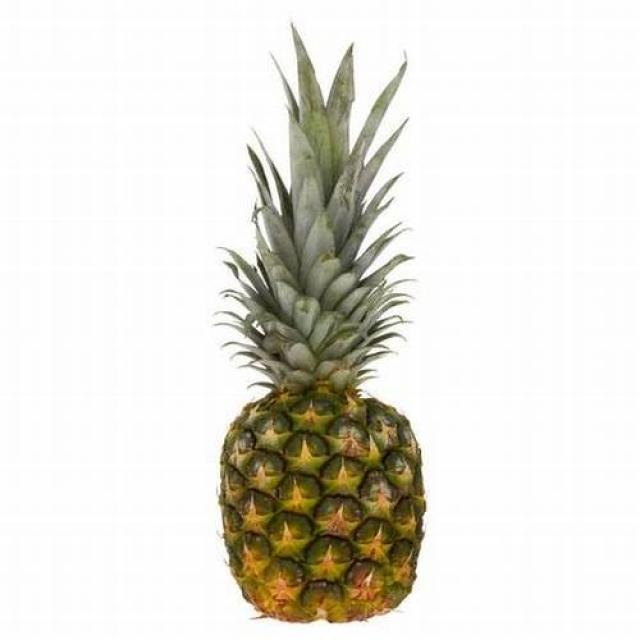Pineapple: (206, 20, 425, 624)
